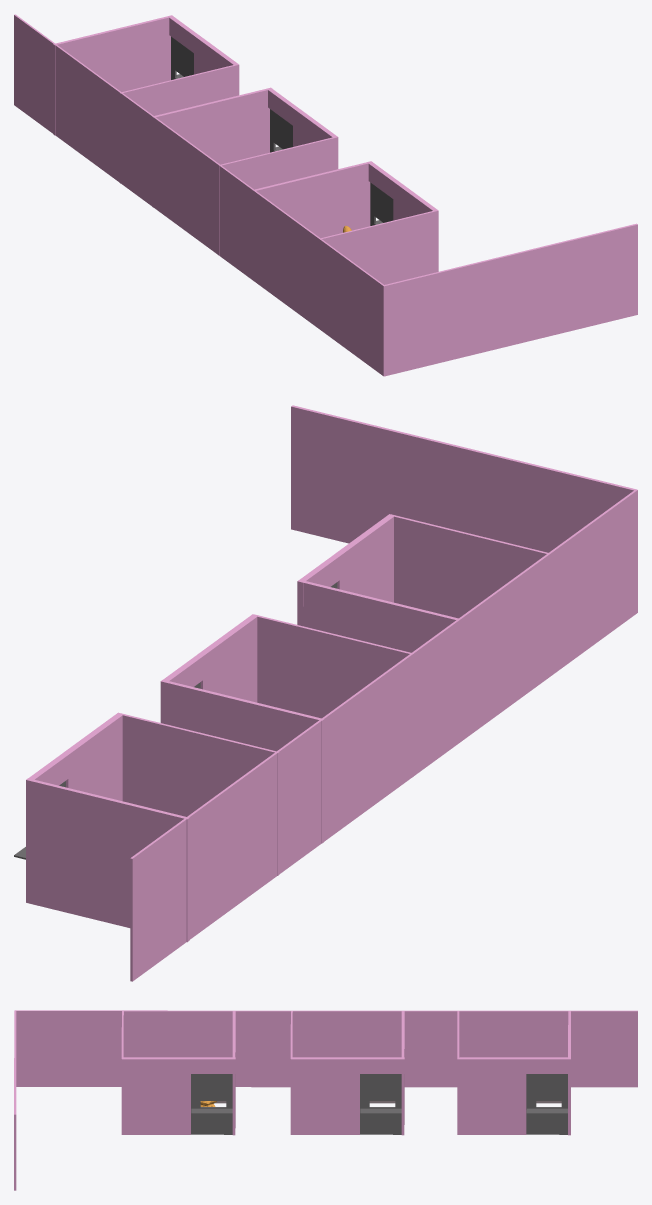
The model's file is isolation_area2.dae.
3 renders of one model, top to bottom at view 1: azimuth 30°, elevation 25°; view 2: azimuth 150°, elevation 25°; view 3: azimuth 270°, elevation 25°, orthographic. The views are drawn at different scales.
Parts seen in each view (by area): view 1: Cube.001, wall1.001, wall1.003, wall1.006, wall1.004, wall1.002, wall1.005, wall1.007, wall3.006, wall3.004, wall3.002, wall3.001 (+5 smaller); view 2: Cube.001, wall1.001, wall1.006, wall1.007, wall1.005, wall1.002, wall1.003, wall1.004, wall3.005, wall3.007, wall3.001, wall3.002 (+2 smaller); view 3: Cube.001, wall3.007, wall3.001, wall3.005, wall2.015, wall2.010, wall2.005, wall3.004, wall3.002, wall3.006, wall1.001, wall1.004 (+2 smaller).
Part boxes in pixels (<box>): Cube.001: <box>14,14,384,376</box>; wall1.001: <box>383,223,637,376</box>; wall1.003: <box>252,161,372,280</box>; wall1.006: <box>53,15,173,135</box>; wall1.004: <box>152,87,272,207</box>; wall1.002: <box>319,210,438,284</box>; wall1.005: <box>218,136,337,255</box>; wall1.007: <box>119,64,238,183</box>; wall3.006: <box>169,16,208,63</box>; wall3.004: <box>268,89,307,135</box>; wall3.002: <box>368,162,407,209</box>; wall3.001: <box>393,180,438,271</box>; Cube.001: <box>130,490,637,981</box>; wall1.001: <box>291,405,636,552</box>; wall1.006: <box>26,778,189,942</box>; wall1.007: <box>118,713,279,875</box>; wall1.005: <box>252,614,413,777</box>; wall1.002: <box>391,514,550,618</box>; wall1.003: <box>297,579,460,743</box>; wall1.004: <box>160,679,324,843</box>; wall3.005: <box>197,614,258,702</box>; wall3.007: <box>62,712,122,801</box>; wall3.001: <box>334,514,395,602</box>; wall3.002: <box>297,542,359,606</box>; Cube.001: <box>15,1010,637,1087</box>; wall3.007: <box>457,1057,526,1134</box>; wall3.001: <box>122,1057,190,1134</box>; wall3.005: <box>291,1057,359,1134</box>; wall2.015: <box>526,1074,567,1134</box>; wall2.010: <box>360,1074,401,1134</box>; wall2.005: <box>191,1074,232,1134</box>; wall3.004: <box>360,1057,404,1073</box>; wall3.002: <box>191,1057,235,1073</box>; wall3.006: <box>526,1057,567,1073</box>; wall1.001: <box>14,1010,16,1190</box>; wall1.004: <box>401,1010,404,1135</box>.
Size of the model in its own units: 9.14 by 23.13 by 3.11.
